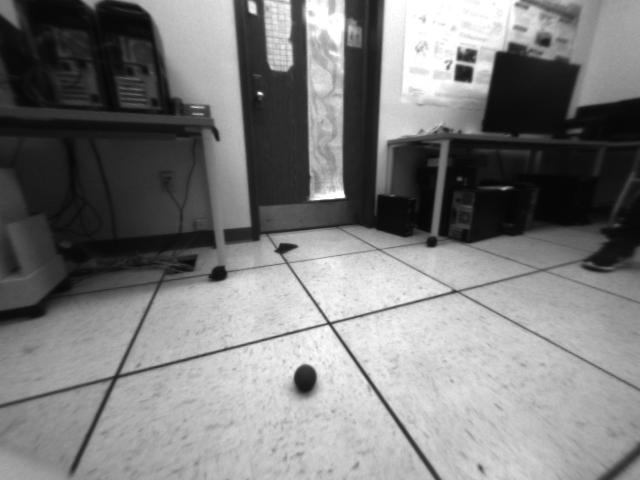dogtoy: (290, 359, 323, 399)
